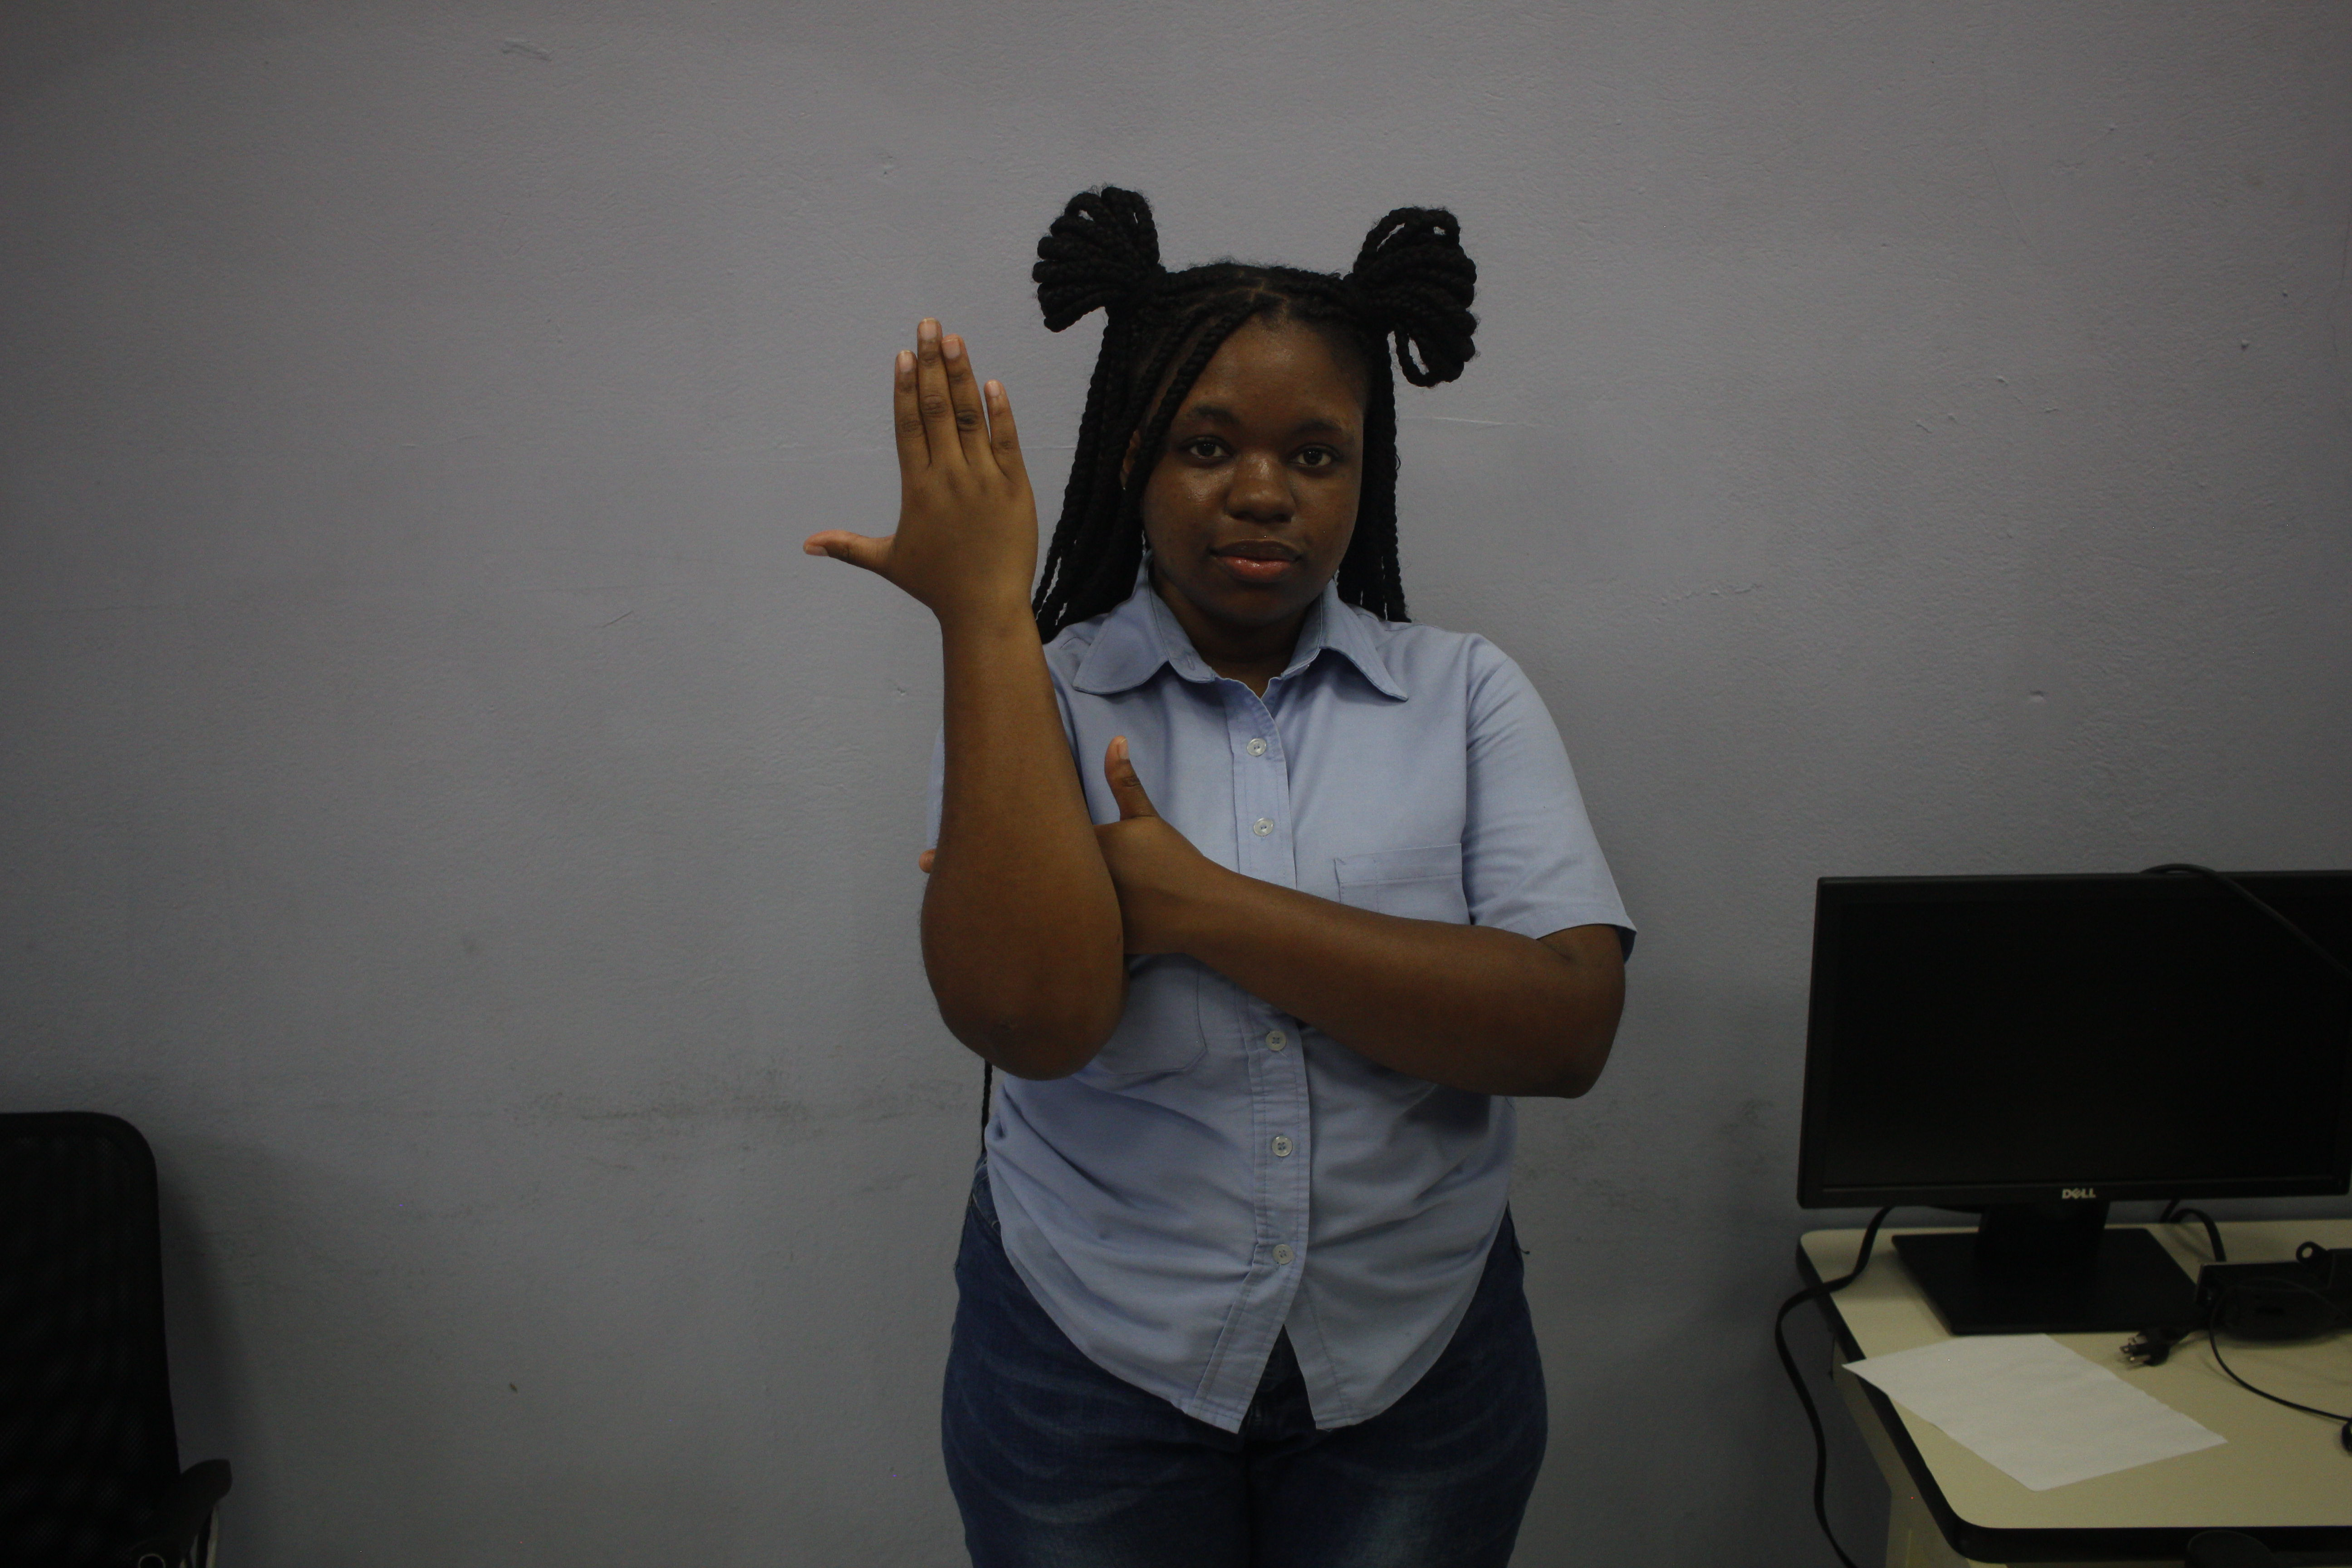morning: (796, 301, 1160, 1085)
